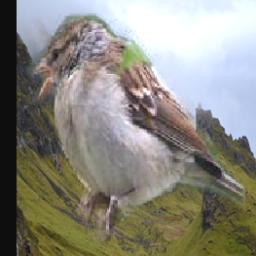Sparrow: (27, 14, 246, 243)
